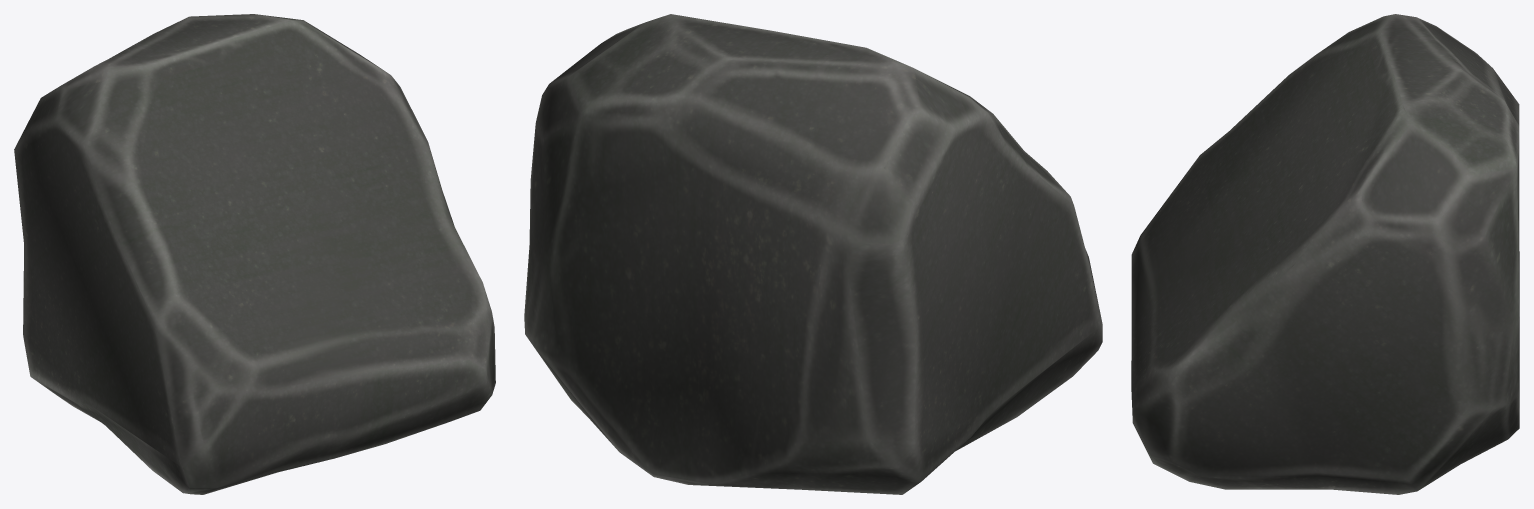
File: Stylized Rocks 3.fbx
The picture shows the model from 3 angles, left to right: view 1: azimuth 30°, elevation 25°; view 2: azimuth 150°, elevation 25°; view 3: azimuth 270°, elevation 25°; orthographic projection. The views are drawn at different scales.
Parts seen in each view (by area): view 1: Stylized Rocks 3; view 2: Stylized Rocks 3; view 3: Stylized Rocks 3.
Boxes of the visible parts, <box> form: Stylized Rocks 3: <box>14,14,495,494</box>; Stylized Rocks 3: <box>524,14,1102,494</box>; Stylized Rocks 3: <box>1131,14,1519,494</box>.
Size of the model in its own units: 200 by 200 by 200.
Materials: 1 (1 with a texture image).
